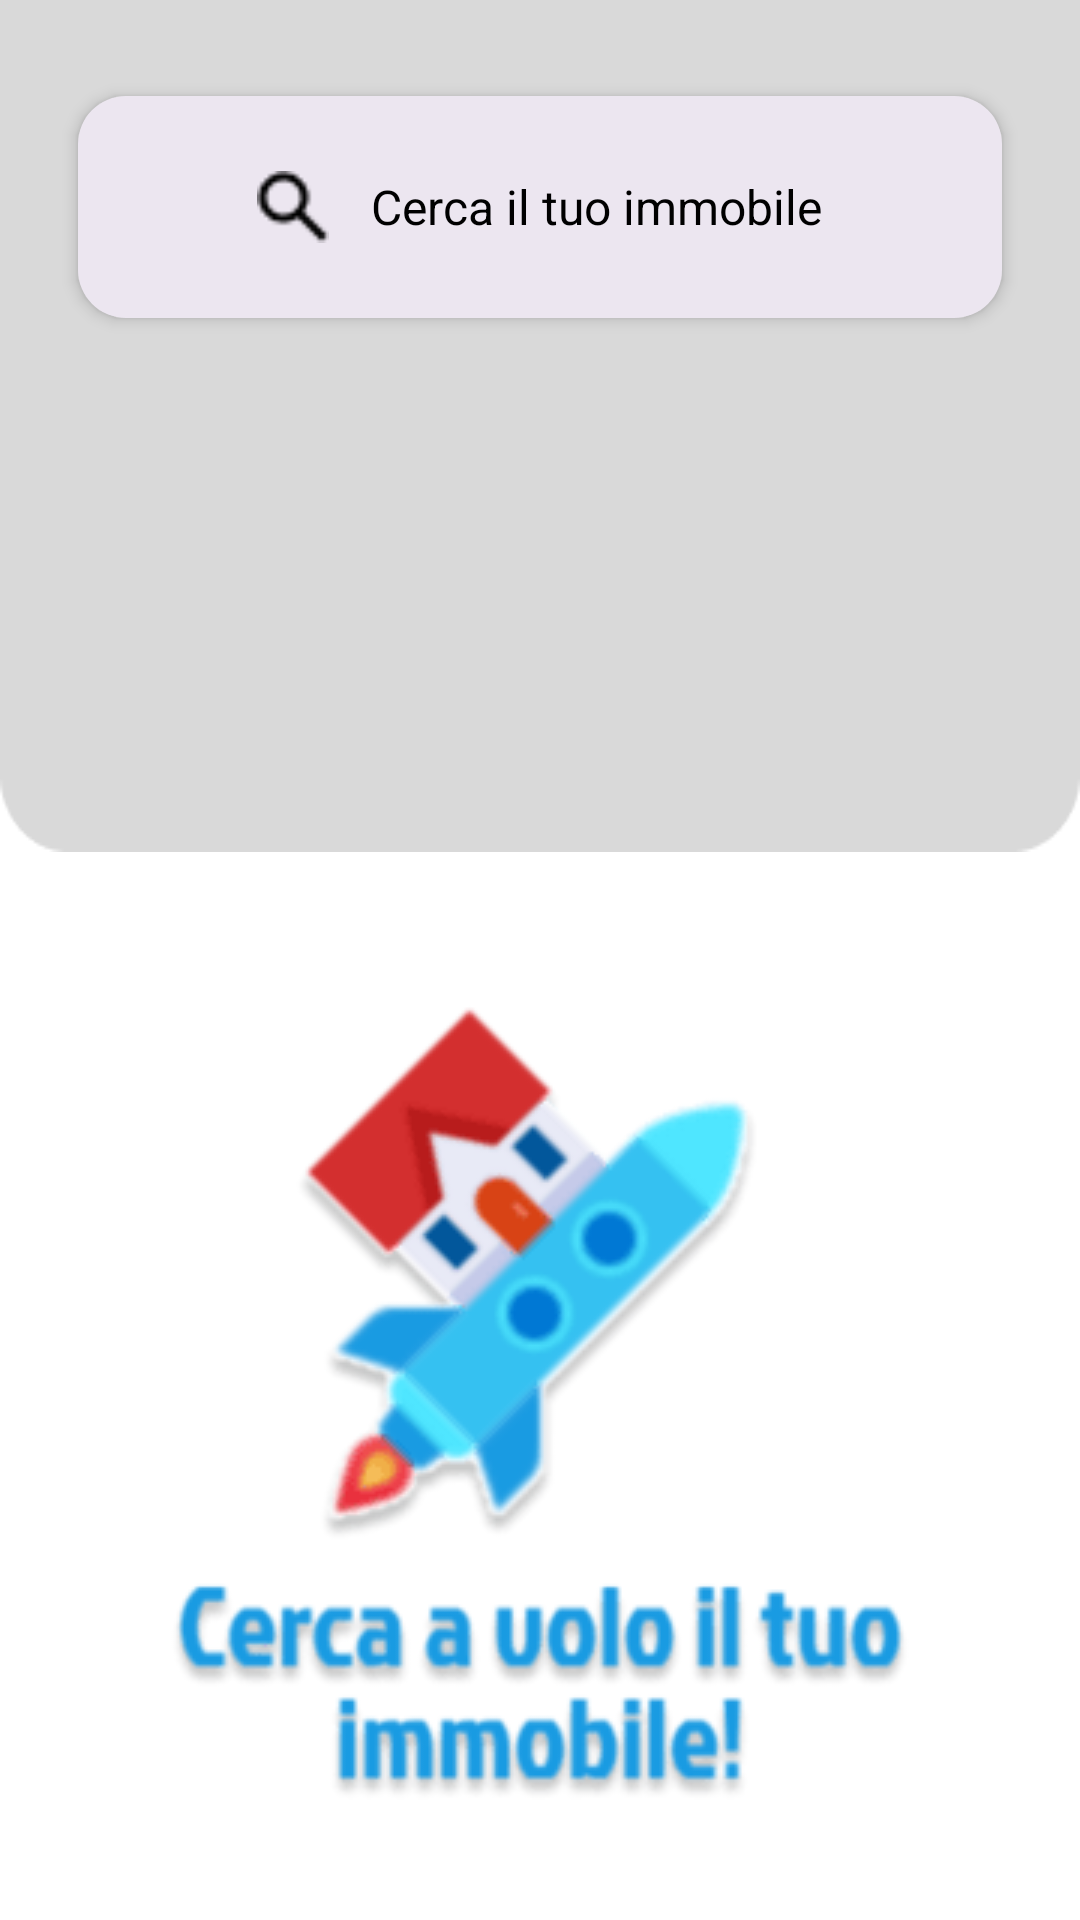

Named icons in this screenshot (1080x1920) and their centers, (x=x, y=y):
magnifying glass: (x=293, y=207)
